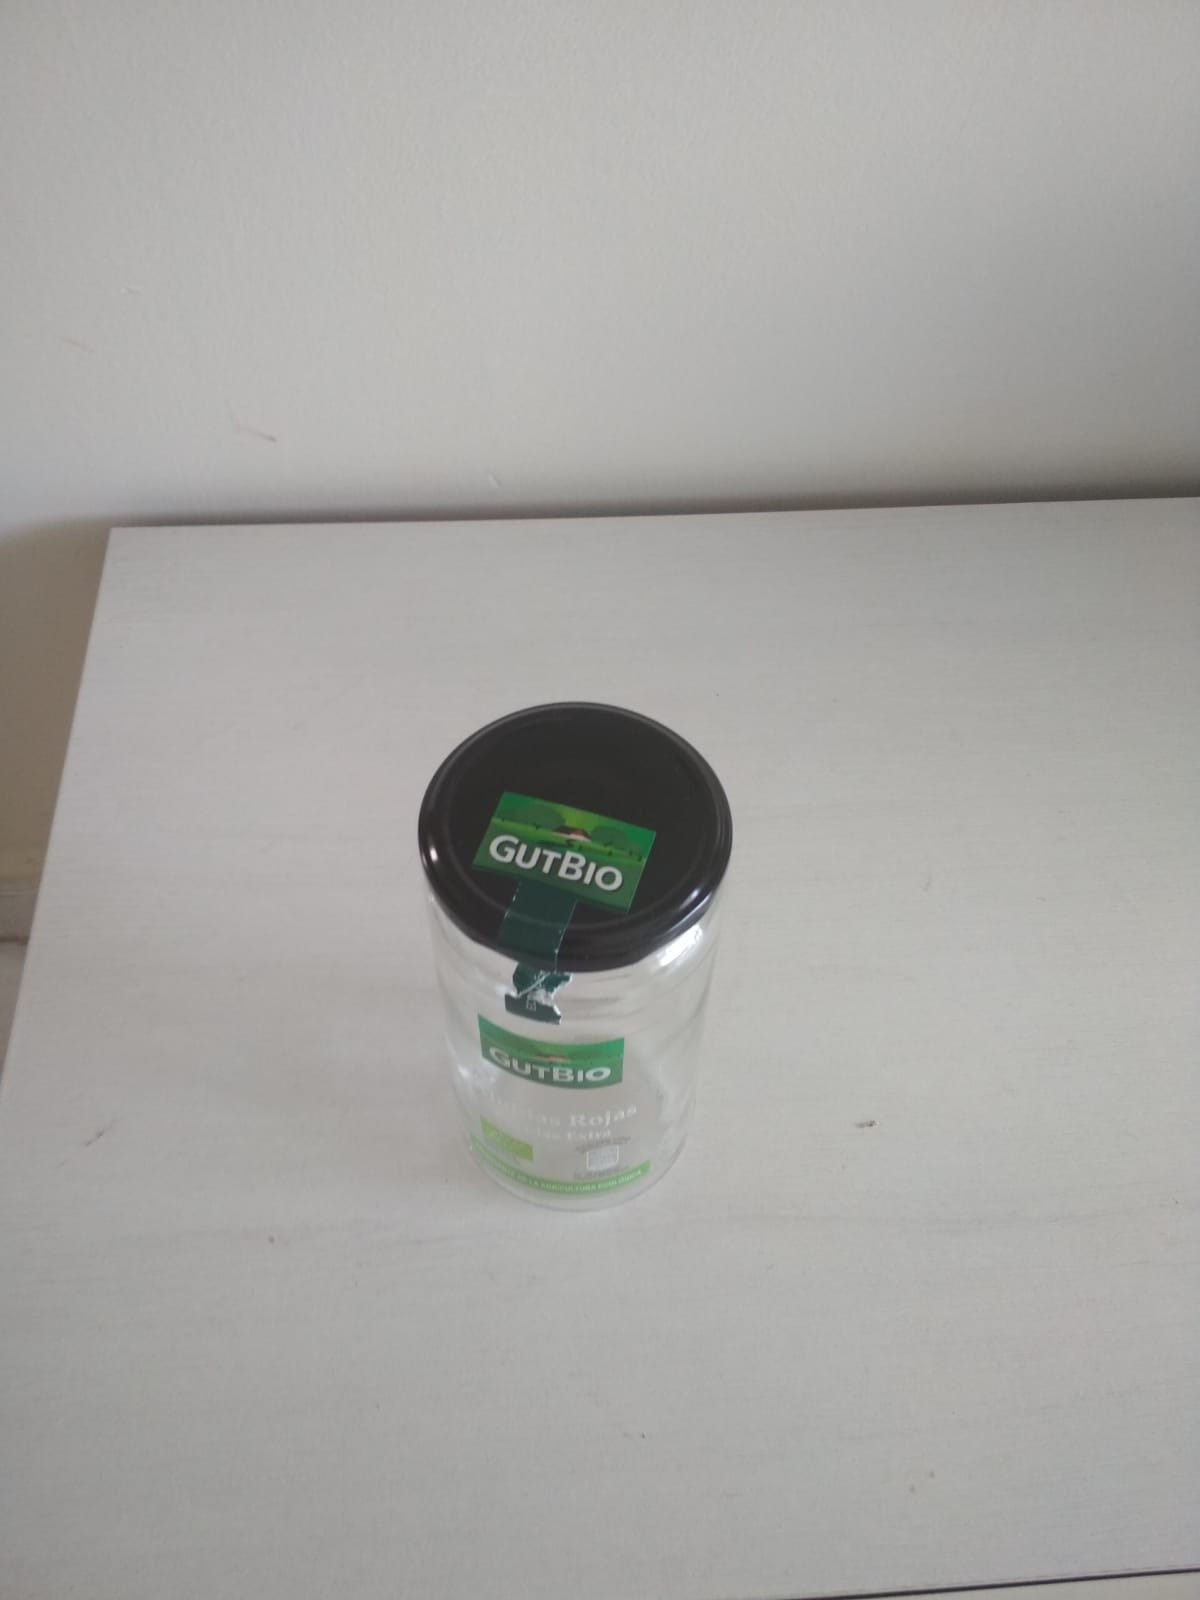pote cristal: (416, 697, 740, 1225)
